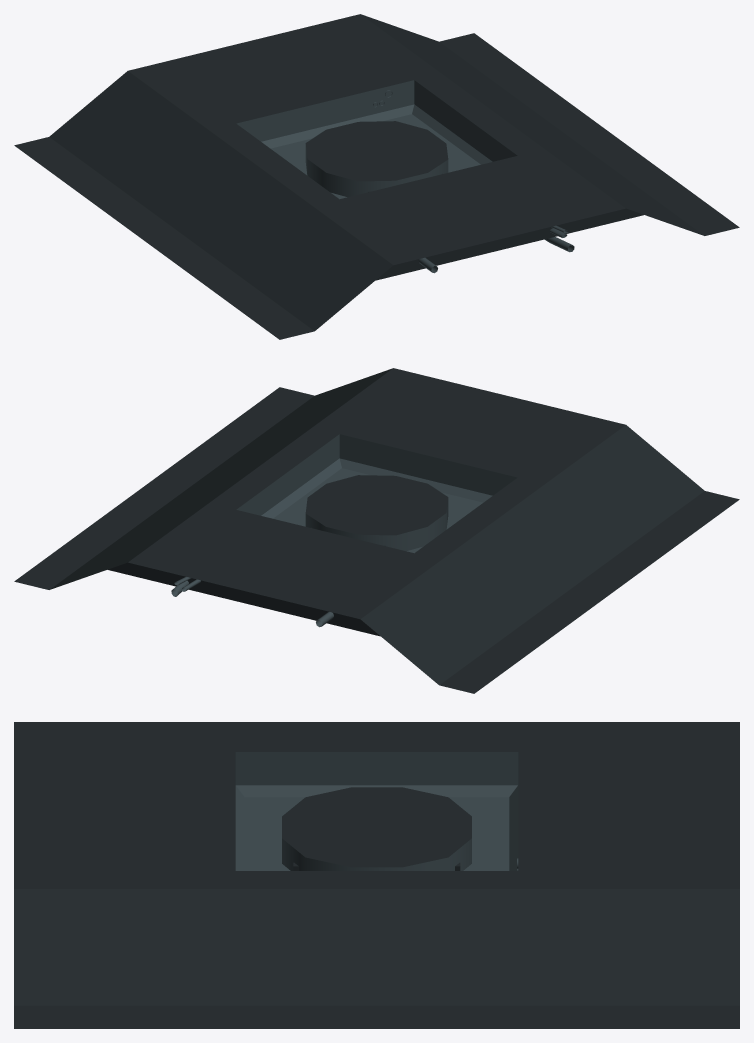
File: ceilingVent.fbx
3 views of the same model, one above another, from view 1: azimuth 30°, elevation 25°; view 2: azimuth 150°, elevation 25°; view 3: azimuth 270°, elevation 25° (orthographic). The views are drawn at different scales.
Visible parts, largest first — view 1: ceilingVent; view 2: ceilingVent; view 3: ceilingVent.
Part boxes in pixels (bbox=[...]): ceilingVent: bbox=[14, 14, 739, 339]; ceilingVent: bbox=[14, 368, 739, 693]; ceilingVent: bbox=[14, 722, 739, 1028].
Size of the model in its own units: 2 by 2 by 0.1945.
